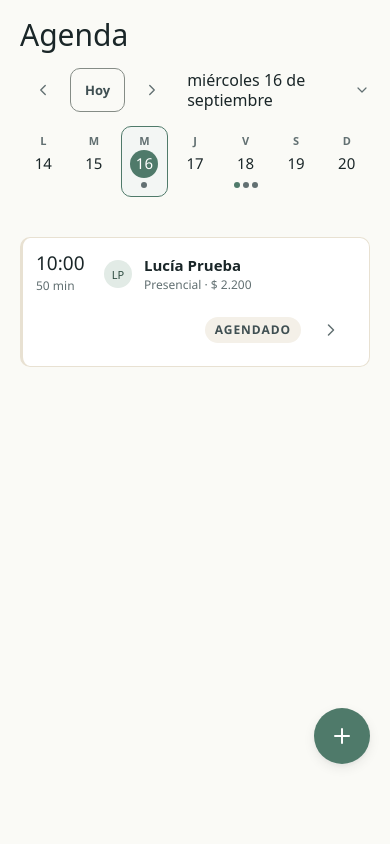
Test case: tocar otro día de la tira cambia la lista sin volver a pedir la semana
Check: the link "10:00 50 min LP Lucía Prueba Presencial · $ 2.200" is shown, box [36,250,252,294]
Check: the link "Mercedes Prueba" is not shown
Click the button named "viernes 18 de septiembre: 3 turnos". click: click(246, 162)
box: [222,126,269,197]
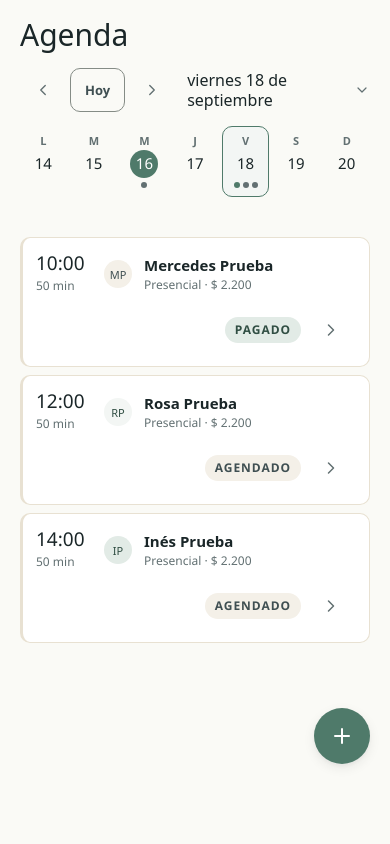
Check: the link "10:00 50 min MP Mercedes Prueba Presencial · $ 2.200" is shown, box [36,250,273,294]
Check: the link "Lucía Prueba" is gone
